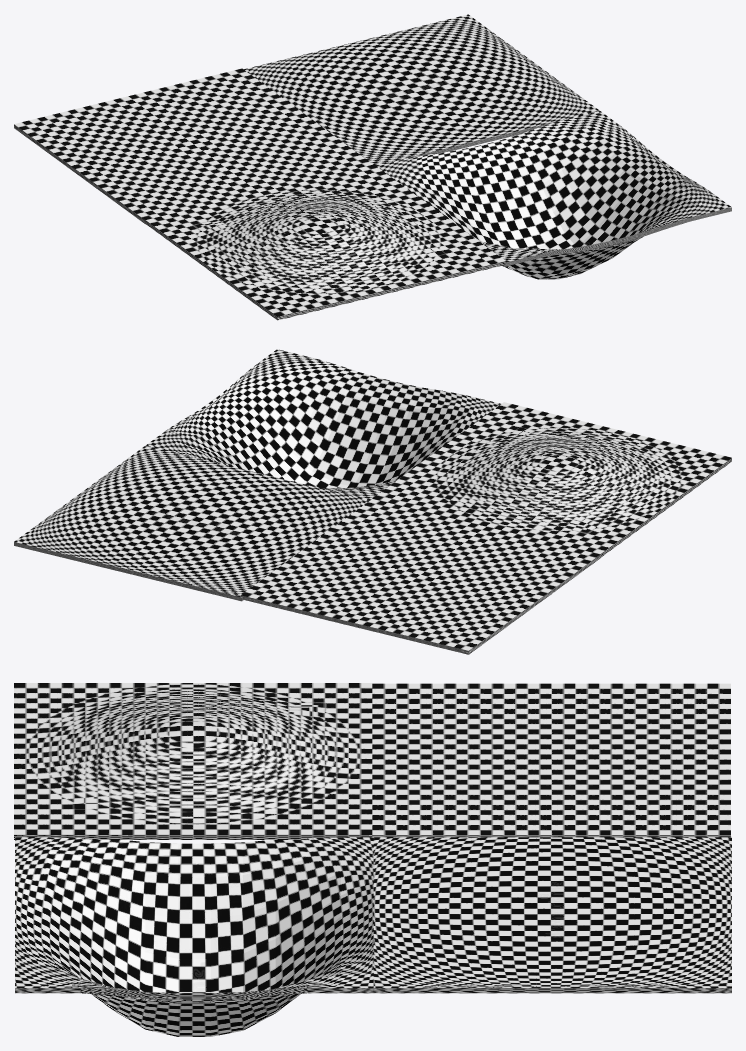
3 views of the same model, one above another, from view 1: azimuth 30°, elevation 25°; view 2: azimuth 150°, elevation 25°; view 3: azimuth 270°, elevation 25° (orthographic). The views are drawn at different scales.
Visible parts, largest first — view 1: Cube.003, Cube.002, Cube, Cube.001; view 2: Cube, Cube.002, Cube.001, Cube.003; view 3: Cube.003, Cube.001, Cube.002, Cube.
Part boxes in pixels (left/top/right/bottom): Cube.003: left=376, top=111, right=731, bottom=279; Cube.002: left=145, top=164, right=505, bottom=320; Cube: left=14, top=68, right=372, bottom=224; Cube.001: left=244, top=14, right=599, bottom=165; Cube: left=240, top=499, right=600, bottom=654; Cube.002: left=372, top=402, right=731, bottom=557; Cube.001: left=14, top=445, right=369, bottom=601; Cube.003: left=146, top=349, right=500, bottom=500; Cube.003: left=15, top=837, right=373, bottom=1036; Cube.001: left=373, top=836, right=731, bottom=993; Cube.002: left=14, top=683, right=372, bottom=839; Cube: left=372, top=683, right=730, bottom=837.
Size of the model in its own units: 59.8 by 12.74 by 60.08.
Materials: 4 (4 with a texture image).
